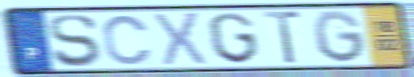C: (101, 13, 155, 67)
G: (311, 9, 368, 65), (206, 11, 262, 66)
S: (46, 12, 101, 69)
T: (262, 9, 304, 66)
X: (152, 10, 209, 68)
